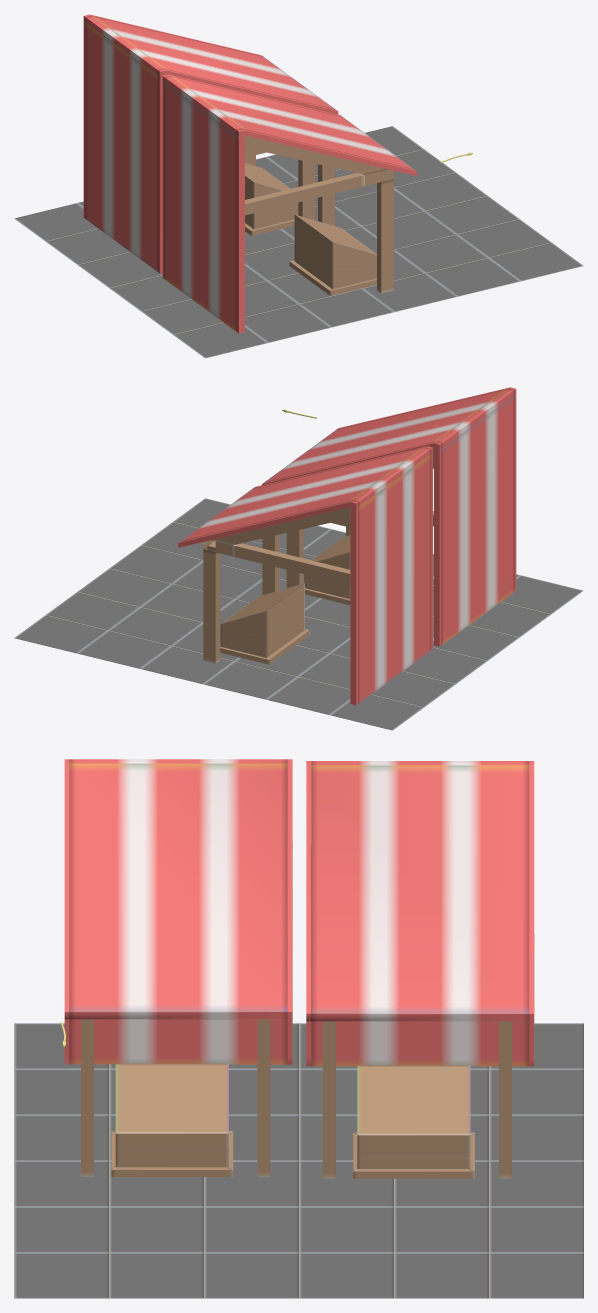
The model's file is Market Stalls.fbx.
3 renders of one model, top to bottom at view 1: azimuth 30°, elevation 25°; view 2: azimuth 150°, elevation 25°; view 3: azimuth 270°, elevation 25°, orthographic. The views are drawn at different scales.
Visible parts, largest first — view 1: Market Stalls; view 2: Market Stalls; view 3: Market Stalls.
Part boxes in pixels (x1,y1,x2,y2): Market Stalls: (14, 14, 583, 358); Market Stalls: (14, 387, 583, 730); Market Stalls: (14, 759, 583, 1298).
Bounding box in the file's own units: 88.81 × 45.56 × 77.64.
